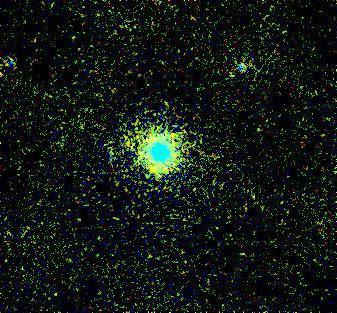star: (136, 154, 166, 184)
